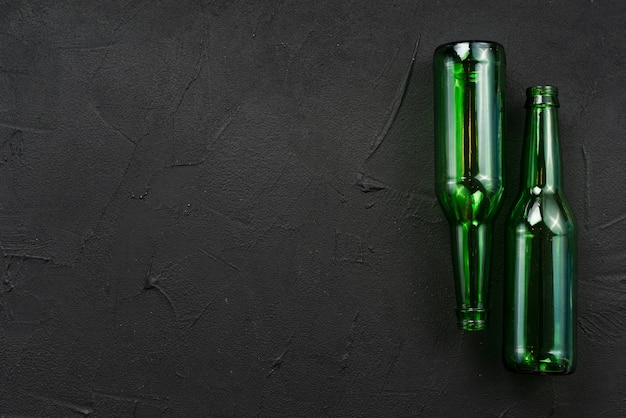alcohol: (439, 41, 505, 333), (512, 83, 575, 373)
